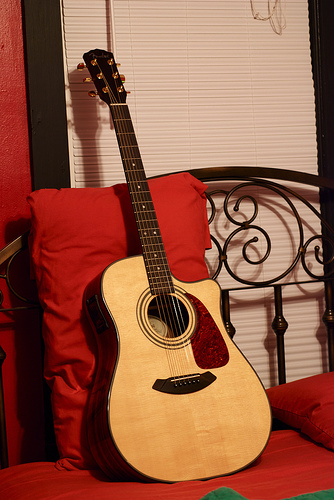guitar: (76, 52, 275, 484)
